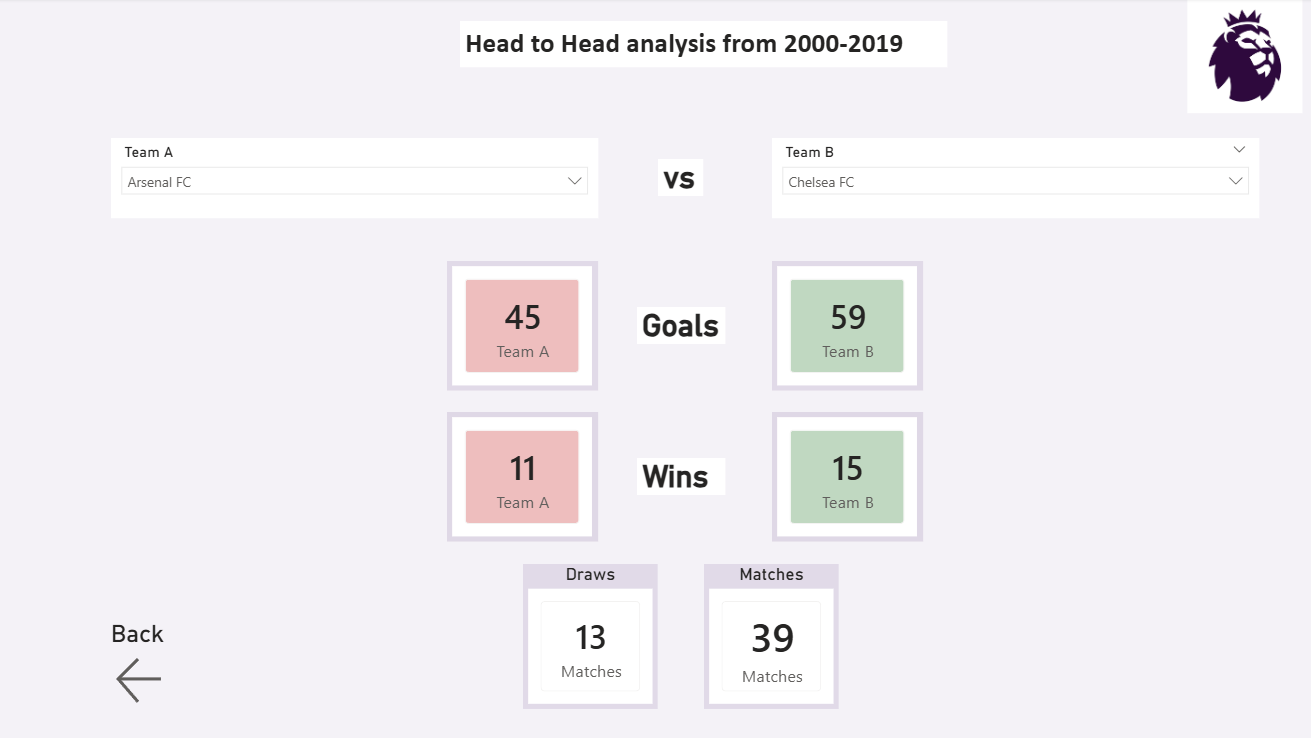

This screenshot's page, from the dashboard's own definition file:
{"tool":"powerbi","page":{"name":"H2H Analysis","canvas":[1280,720],"ordinal":1},"visuals":[{"type":"slicer","fields":{"Values":["H2H_Team1.Team"]},"box":[109.9,136.2,473.7,77.8],"z":0},{"type":"slicer","fields":{"Values":["H2H_Team2.Team"]},"box":[752.8,136.2,473.7,77.8],"z":1000},{"type":"cardVisual","title":"Matches","fields":{"Data":["H2H_Teams.H2H Matches"]},"box":[686.7,550.5,131.3,141],"z":2000},{"type":"cardVisual","title":"Draws","fields":{"Data":["H2H_Teams.H2H Draws"]},"box":[510.6,550.5,131.3,141],"z":3000},{"type":"cardVisual","title":"Goals","fields":{"Data":["H2H_Teams.H2H Team A Goals"]},"box":[436.7,255.8,146.9,126.4],"z":4000},{"type":"cardVisual","title":"Wins","fields":{"Data":["H2H_Teams.H2H Team1 Wins"]},"box":[436.7,402.7,146.9,126.4],"z":5000},{"type":"image","box":[1144.8,0,135.2,111.9],"z":6000},{"type":"textbox","box":[449.4,22.4,473.7,44.7],"z":7000},{"type":"textbox","title":"vs","box":[641.9,156.6,43.8,36],"z":8000},{"type":"textbox","title":"Goals","box":[621.5,300.5,85.6,36],"z":9000},{"type":"cardVisual","title":"Goals","fields":{"Data":["H2H_Teams.H2H Team B Goals"]},"box":[752.8,255.8,146.9,126.4],"z":10000},{"type":"textbox","title":"Wins","box":[621.5,447.4,85.6,36],"z":11000},{"type":"cardVisual","title":"Wins","fields":{"Data":["H2H_Teams.H2H Team2 Wins"]},"box":[752.8,402.7,146.9,126.4],"z":12000},{"type":"actionButton","title":"Back","box":[109.9,604,206.2,87.5],"z":13000}]}

Visuals, with their boxes in screenshot pixels (x1, y1, x2, y2), scaled from the page's 1280x720 canvas onto the 1311x738 screenshot:
slicer - H2H_Team1.Team: {"left": 113, "top": 140, "right": 598, "bottom": 219}
slicer - H2H_Team2.Team: {"left": 771, "top": 140, "right": 1256, "bottom": 219}
"Matches" cardVisual: {"left": 703, "top": 564, "right": 838, "bottom": 709}
"Draws" cardVisual: {"left": 523, "top": 564, "right": 657, "bottom": 709}
"Goals" cardVisual: {"left": 447, "top": 262, "right": 598, "bottom": 392}
"Wins" cardVisual: {"left": 447, "top": 413, "right": 598, "bottom": 542}
image: {"left": 1173, "top": 0, "right": 1310, "bottom": 115}
textbox: {"left": 460, "top": 23, "right": 945, "bottom": 69}
"vs" textbox: {"left": 657, "top": 161, "right": 702, "bottom": 197}
"Goals" textbox: {"left": 637, "top": 308, "right": 724, "bottom": 345}
"Goals" cardVisual: {"left": 771, "top": 262, "right": 921, "bottom": 392}
"Wins" textbox: {"left": 637, "top": 459, "right": 724, "bottom": 495}
"Wins" cardVisual: {"left": 771, "top": 413, "right": 921, "bottom": 542}
"Back" actionButton: {"left": 113, "top": 619, "right": 324, "bottom": 709}
